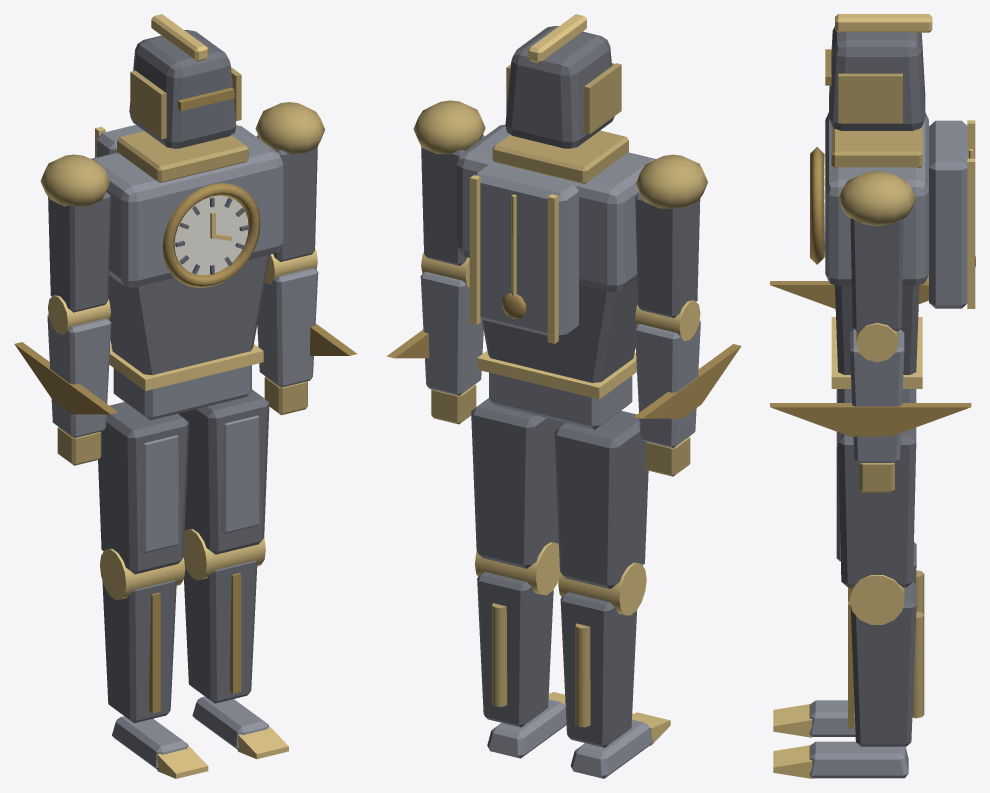
Rendered from pacemaker.glb.
3 views of the same model, side by side, from view 1: azimuth 30°, elevation 25°; view 2: azimuth 150°, elevation 25°; view 3: azimuth 270°, elevation 25° (orthographic). The views are drawn at different scales.
Parts seen in each view (by area): view 1: pacemaker.005, pacemaker*1.005, pacemaker.003, pacemaker.001, pacemaker.004, pacemaker.002, pacemaker.021, pacemaker.023, pacemaker*1.008, pacemaker*1.009, pacemaker*1.002, pacemaker*1.004 (+26 smaller); view 2: pacemaker.003, pacemaker*1.007, pacemaker.001, pacemaker*1.005, pacemaker.021, pacemaker.005, pacemaker.004, pacemaker.002, pacemaker.023, pacemaker*1.008, pacemaker*1.009, pacemaker*1.004 (+21 smaller); view 3: pacemaker.001, pacemaker.002, pacemaker*1.007, pacemaker*1.005, pacemaker.021, pacemaker.022, glow*0.009, pacemaker*1.008, pacemaker*1.001, brass*0.002, brass*0.003, brass*0.005 (+17 smaller).
Part boxes in pixels (left/top/right/bottom): pacemaker.005: left=108, top=254, right=269, bottom=375; pacemaker*1.005: left=91, top=125, right=283, bottom=287; pacemaker.003: left=98, top=402, right=188, bottom=574; pacemaker.001: left=178, top=389, right=269, bottom=554; pacemaker.004: left=102, top=580, right=176, bottom=723; pacemaker.002: left=184, top=560, right=257, bottom=703; pacemaker.021: left=129, top=30, right=236, bottom=148; pacemaker.023: left=48, top=192, right=110, bottom=312; pacemaker*1.008: left=257, top=267, right=318, bottom=387; pacemaker*1.009: left=47, top=314, right=111, bottom=438; pacemaker*1.002: left=141, top=435, right=179, bottom=553; pacemaker*1.004: left=113, top=365, right=251, bottom=420; pacemaker.003: left=554, top=410, right=648, bottom=588; pacemaker*1.007: left=475, top=164, right=578, bottom=338; pacemaker.001: left=471, top=398, right=565, bottom=568; pacemaker*1.005: left=456, top=124, right=655, bottom=292; pacemaker.021: left=505, top=26, right=614, bottom=148; pacemaker.005: left=482, top=279, right=637, bottom=382; pacemaker.004: left=560, top=592, right=636, bottom=747; pacemaker.002: left=477, top=572, right=553, bottom=727; pacemaker.023: left=635, top=193, right=700, bottom=318; pacemaker*1.008: left=420, top=272, right=483, bottom=395; pacemaker*1.009: left=634, top=320, right=700, bottom=447; pacemaker*1.004: left=489, top=372, right=632, bottom=429; pacemaker.001: left=838, top=427, right=916, bottom=587; pacemaker.002: left=850, top=582, right=916, bottom=746; pacemaker*1.007: left=929, top=120, right=967, bottom=308; pacemaker*1.005: left=825, top=112, right=928, bottom=285; pacemaker.021: left=829, top=26, right=925, bottom=130; pacemaker.022: left=850, top=218, right=903, bottom=331; glow*0.009: left=770, top=403, right=971, bottom=436; pacemaker*1.008: left=850, top=329, right=904, bottom=462; pacemaker*1.001: left=809, top=741, right=908, bottom=778; brass*0.002: left=831, top=125, right=922, bottom=167; brass*0.003: left=838, top=73, right=902, bottom=123; brass*0.005: left=838, top=171, right=915, bottom=226.
Size of the model in its own units: 1.02 by 2.5 by 0.6343.
